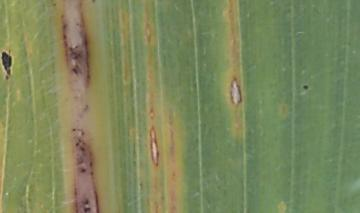tarspot: (1, 50, 13, 80), (71, 66, 78, 79), (83, 197, 91, 206), (82, 206, 91, 213), (302, 83, 309, 91), (79, 167, 86, 174), (71, 126, 77, 133), (90, 1, 96, 5)
